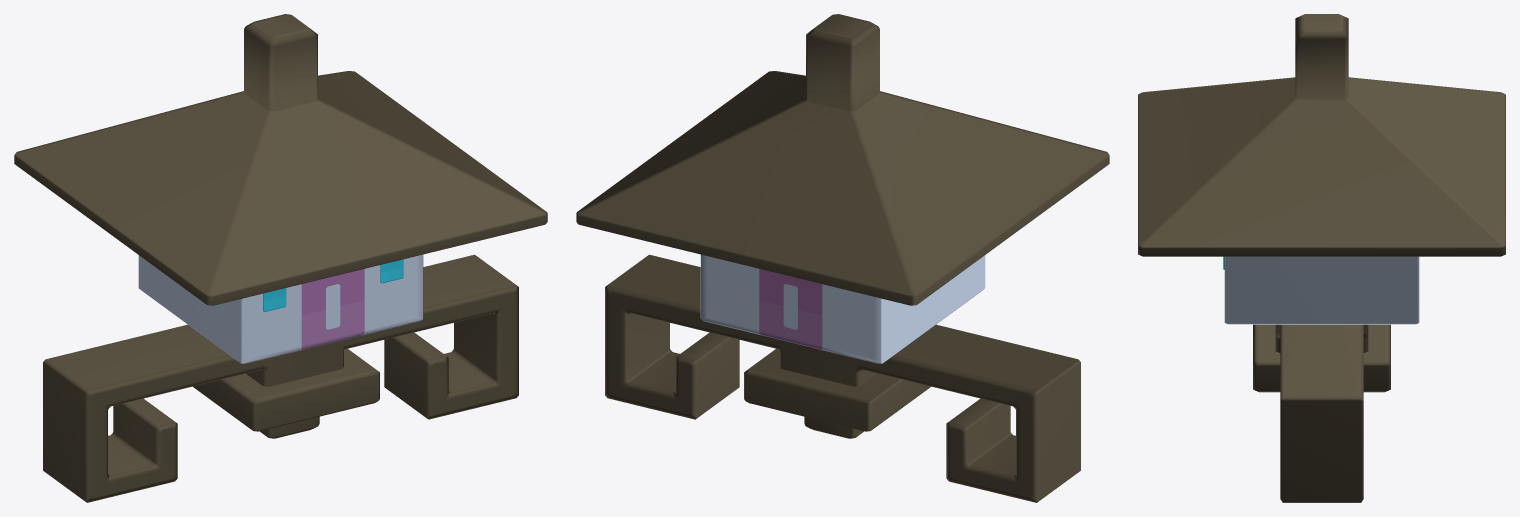
File: model_shiny.obj
3 renders of one model, left to right at view 1: azimuth 30°, elevation 25°; view 2: azimuth 150°, elevation 25°; view 3: azimuth 270°, elevation 25°, orthographic. The views are drawn at different scales.
Visible parts, largest first — view 1: 0608_lampent_shiny; view 2: 0608_lampent_shiny; view 3: 0608_lampent_shiny.
Part boxes in pixels (box(x1,y1,x2,y2)): 0608_lampent_shiny: box(14, 14, 547, 502); 0608_lampent_shiny: box(576, 14, 1109, 502); 0608_lampent_shiny: box(1138, 14, 1505, 502).
Bounding box in the file's own units: 2.5 × 2.25 × 1.96.
Materials: 1 (1 with a texture image).
